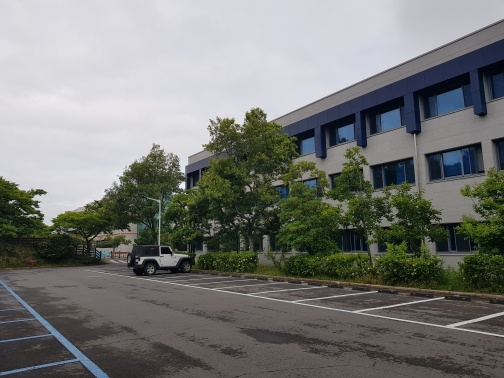College of Social Sciences: (184, 23, 504, 263)
